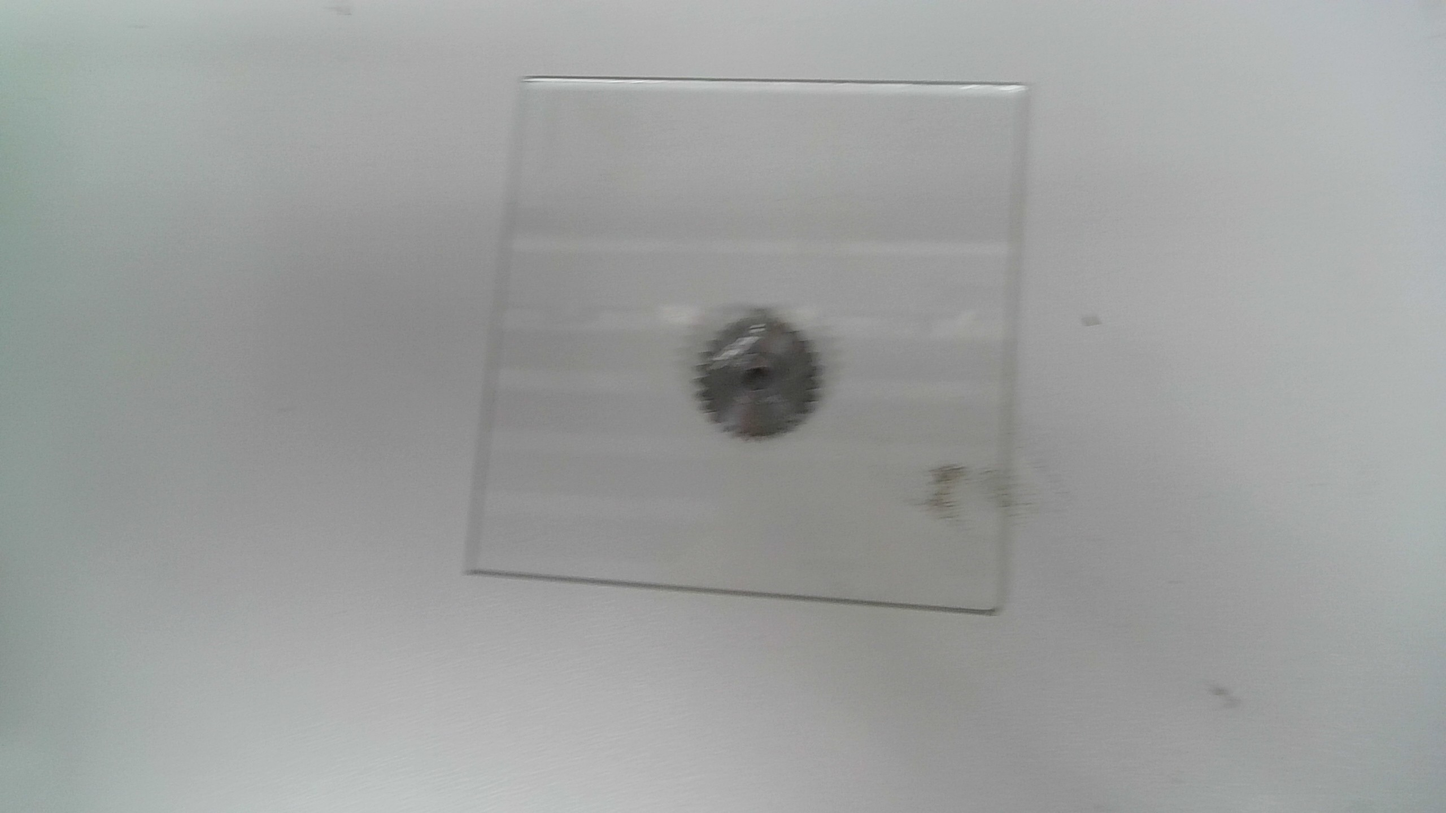gear: (691, 313, 824, 443)
